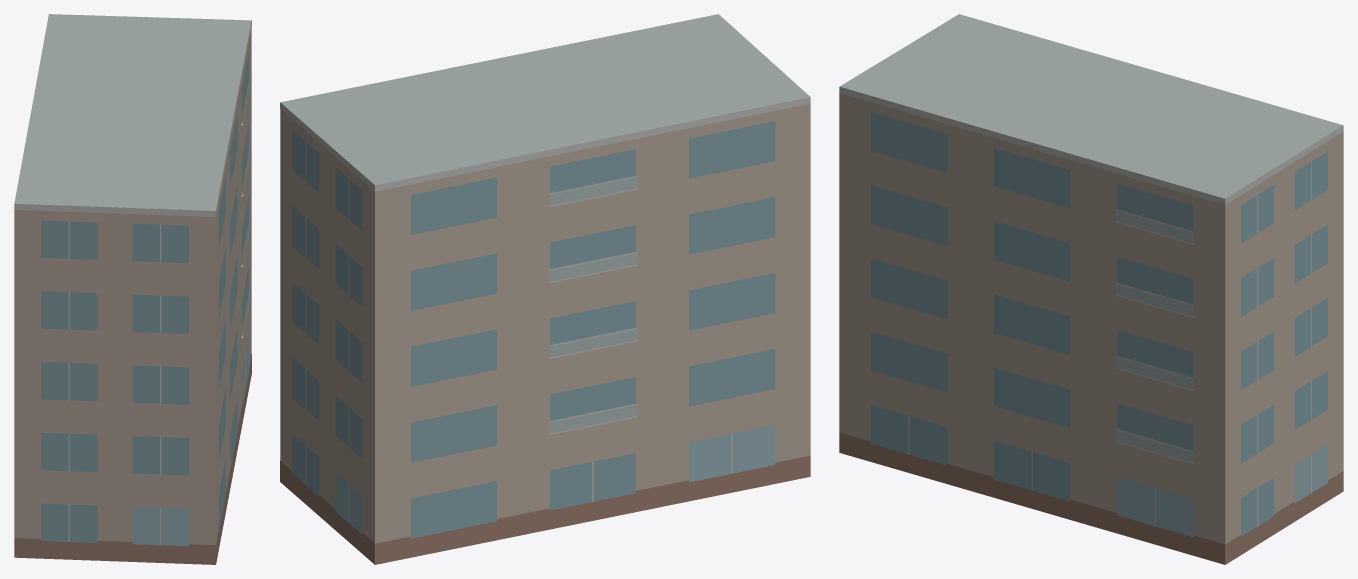
Rendered from survey-upis-33045639.glb.
The picture shows the model from 3 angles, left to right: view 1: azimuth 30°, elevation 25°; view 2: azimuth 150°, elevation 25°; view 3: azimuth 270°, elevation 25°; orthographic projection. The views are drawn at different scales.
Parts seen in each view (by area): view 1: survey-upis-33045639.tmp; view 2: survey-upis-33045639.tmp; view 3: survey-upis-33045639.tmp.
Boxes of the visible parts, box(x1,y1,x2,y2) form: survey-upis-33045639.tmp: box(14, 14, 251, 564); survey-upis-33045639.tmp: box(280, 14, 810, 564); survey-upis-33045639.tmp: box(839, 14, 1343, 564).
Size of the model in its own units: 15.54 by 14.35 by 17.92.
